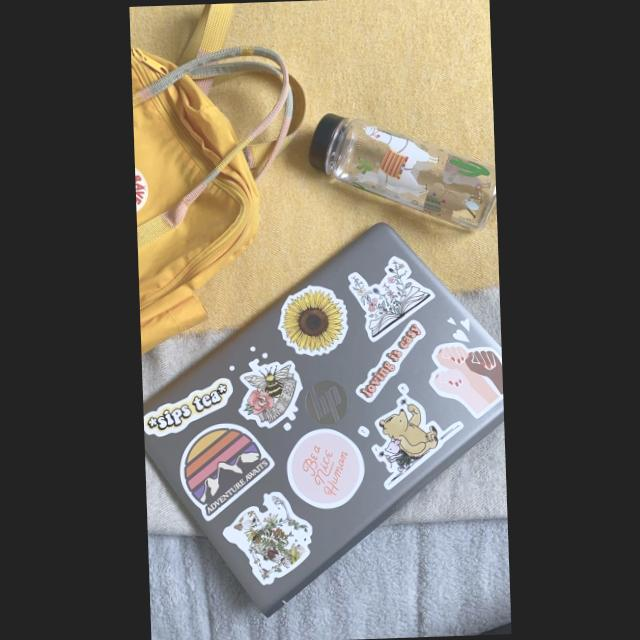laptop: (137, 219, 510, 609)
